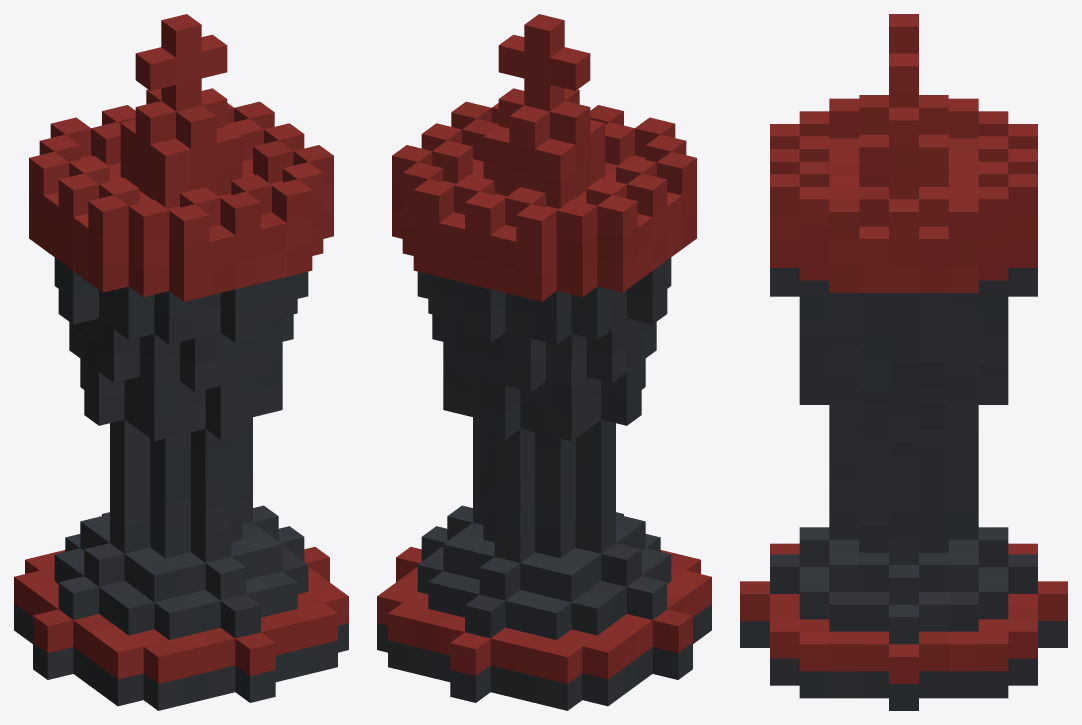
The model's file is black_king.glb.
The picture shows the model from 3 angles, left to right: view 1: azimuth 30°, elevation 25°; view 2: azimuth 150°, elevation 25°; view 3: azimuth 270°, elevation 25°; orthographic projection.
Size of the model in its own units: 1.1 by 2.3 by 1.1.
